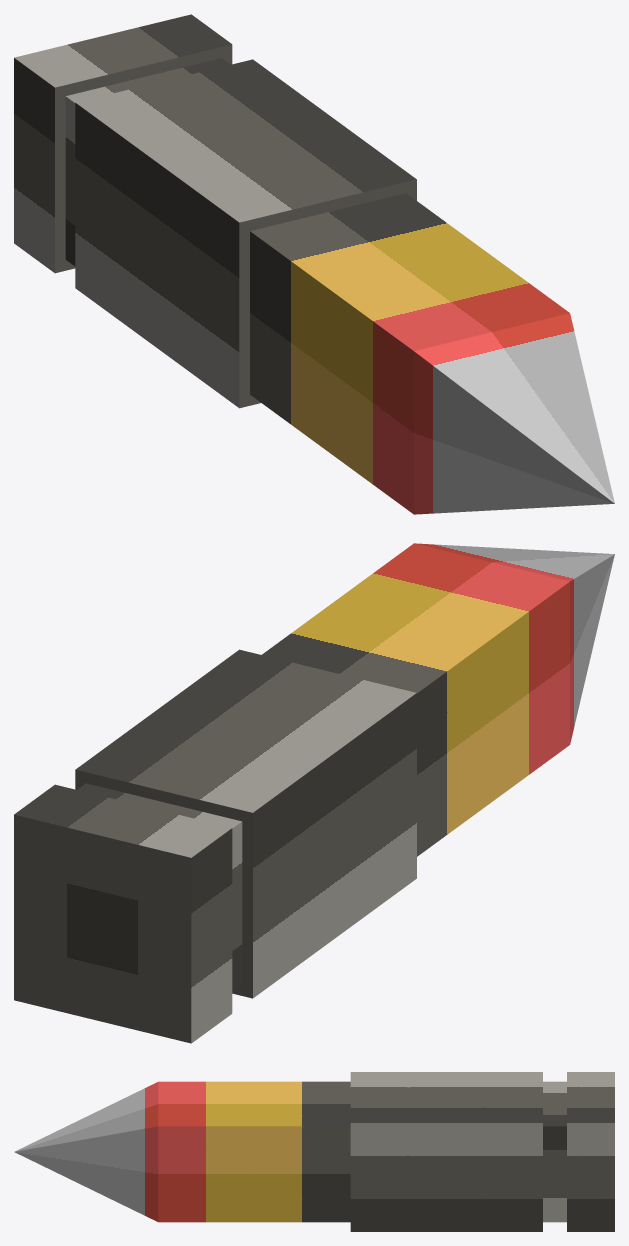
Rendered from 50mmhe.obj.
3 views of the same model, one above another, from view 1: azimuth 30°, elevation 25°; view 2: azimuth 150°, elevation 25°; view 3: azimuth 270°, elevation 25° (orthographic). The views are drawn at different scales.
Visible parts, largest first — view 1: cube3, cube2, pyramid, cube, cube1; view 2: cube3, cube2, cube, pyramid, cube1; view 3: cube3, cube2, pyramid, cube, cube1.
Part boxes in pixels (bbox=[...]): cube3: bbox=[75, 59, 416, 408]; cube2: bbox=[250, 193, 569, 514]; pyramid: bbox=[414, 313, 614, 514]; cube: bbox=[14, 14, 232, 273]; cube1: bbox=[65, 58, 230, 266]; cube3: bbox=[75, 649, 416, 998]; cube2: bbox=[262, 543, 569, 856]; cube: bbox=[14, 784, 232, 1043]; pyramid: bbox=[414, 543, 614, 744]; cube1: bbox=[77, 783, 242, 991]; cube3: bbox=[350, 1072, 542, 1231]; cube2: bbox=[158, 1081, 350, 1222]; pyramid: bbox=[14, 1082, 158, 1221]; cube: bbox=[567, 1072, 614, 1231]; cube1: bbox=[543, 1081, 566, 1222].
Size of the model in its own units: 0.1562 by 0.1562 by 0.7812.
